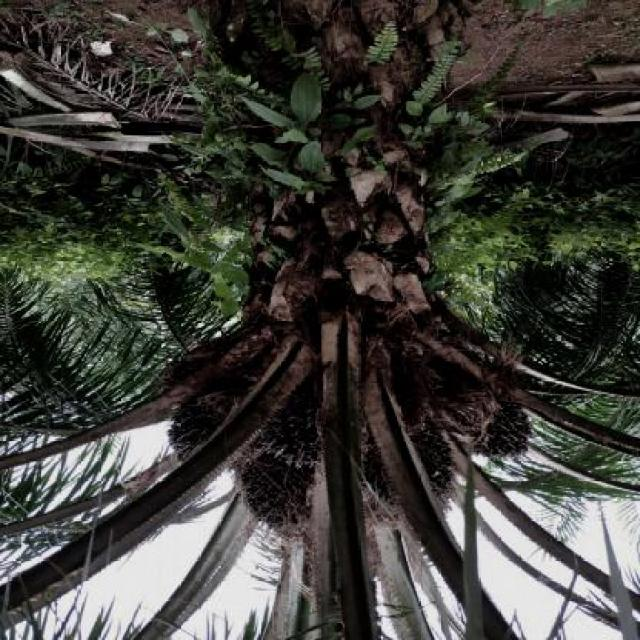palm-oil: (231, 419, 311, 537), (375, 422, 457, 518), (484, 378, 546, 470), (182, 373, 215, 452)
